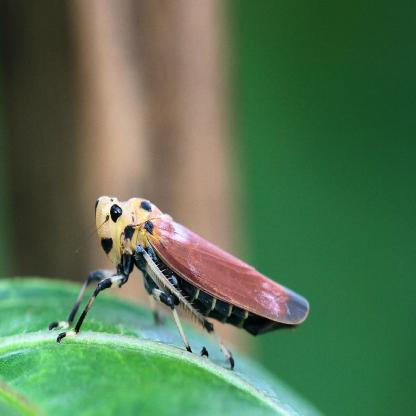grasshopper: (51, 194, 311, 374)
